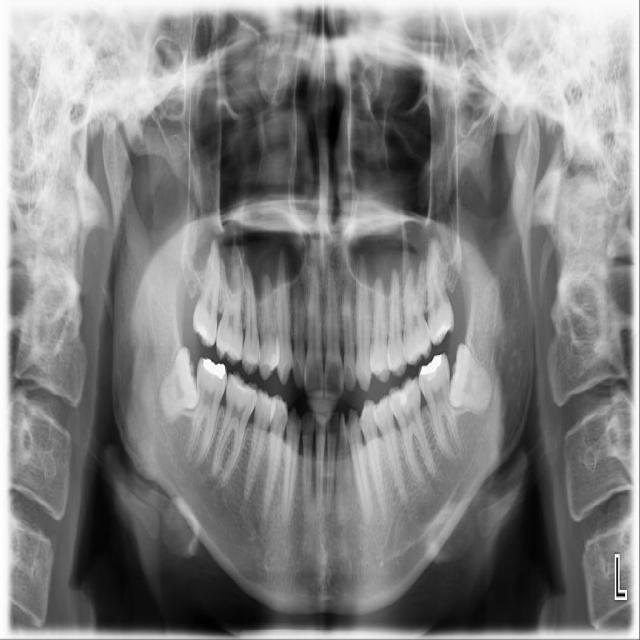3M ESPE Implant: (190, 237, 224, 348)
52: (407, 350, 464, 405), (379, 372, 435, 425), (194, 357, 229, 406), (190, 299, 218, 348), (426, 299, 455, 346)
73: (612, 556, 618, 596)
BioHorizons Implant: (399, 268, 433, 367)
BioLife Implant: (423, 236, 456, 346)
Biomet 3i Implant: (444, 342, 502, 415)
Blue Sky Bio Implant: (414, 352, 467, 467)
Caries: (213, 266, 244, 365)
Implant: (184, 357, 230, 466)
Keystone Dental Implant: (148, 345, 205, 422)
